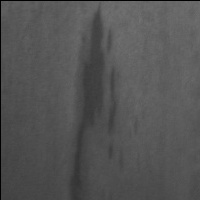inclusion: (71, 1, 124, 185)
